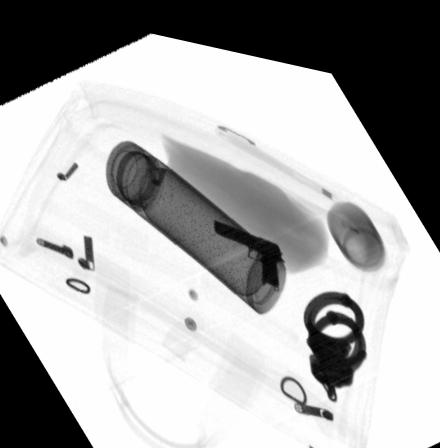Gun: (213, 210, 281, 276)
HandCuffs: (303, 274, 366, 387)
